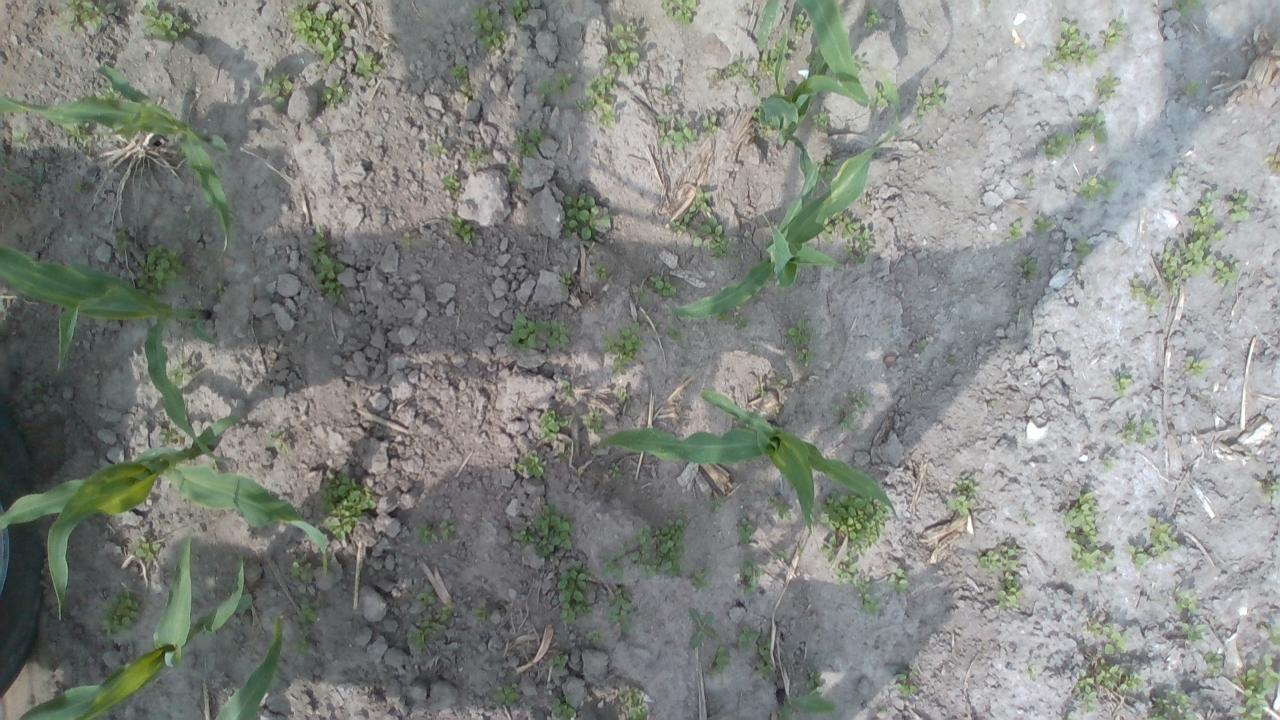Maize: (0, 412, 333, 619), (664, 76, 900, 324), (0, 241, 230, 465), (0, 62, 235, 250), (20, 530, 252, 720), (603, 387, 898, 532), (758, 44, 868, 194), (753, 0, 872, 108), (198, 615, 284, 720), (772, 686, 834, 720)
Weeds: (818, 487, 892, 564), (1064, 491, 1118, 574), (318, 469, 380, 537), (626, 512, 688, 580), (286, 3, 352, 62), (1231, 654, 1280, 720), (820, 211, 875, 264), (1160, 239, 1214, 292), (136, 244, 186, 300), (1045, 20, 1098, 72), (306, 230, 344, 302), (508, 312, 572, 352), (562, 191, 612, 241), (832, 564, 882, 614), (532, 505, 576, 560), (557, 560, 594, 624), (138, 0, 192, 43), (54, 0, 117, 35), (576, 74, 616, 128), (606, 322, 644, 374), (1187, 188, 1224, 241), (467, 5, 509, 50), (98, 594, 140, 637), (606, 22, 640, 75), (831, 390, 871, 434), (656, 112, 698, 151), (1144, 513, 1178, 560), (692, 216, 729, 258), (1148, 690, 1196, 720), (1095, 663, 1143, 693), (1088, 621, 1128, 655), (408, 618, 448, 652), (607, 585, 634, 635), (688, 604, 718, 648), (6, 163, 48, 194), (979, 546, 1024, 574), (946, 476, 976, 516), (871, 72, 901, 112), (260, 72, 293, 108), (1074, 110, 1110, 143), (618, 686, 652, 720), (509, 450, 546, 480), (915, 82, 947, 116), (683, 184, 712, 221), (1122, 419, 1158, 448), (660, 0, 700, 26), (601, 542, 627, 582), (995, 574, 1022, 612), (1131, 279, 1164, 310), (738, 558, 768, 592), (513, 127, 544, 159), (536, 410, 567, 442), (446, 212, 476, 244), (1079, 176, 1119, 200), (536, 72, 574, 97), (318, 80, 351, 108), (417, 520, 455, 544), (706, 642, 731, 678), (754, 640, 776, 680), (1224, 191, 1252, 222), (1214, 257, 1242, 288), (649, 272, 681, 299), (787, 318, 817, 346), (1100, 18, 1126, 50), (353, 51, 382, 79), (62, 121, 94, 146), (1076, 672, 1096, 712), (1044, 132, 1072, 160), (134, 534, 162, 560), (766, 494, 792, 522), (892, 670, 918, 698), (1173, 590, 1201, 616), (298, 596, 324, 624), (754, 48, 779, 76), (1126, 541, 1151, 569), (713, 60, 744, 82), (1182, 355, 1210, 379), (812, 158, 840, 182), (546, 696, 574, 720), (290, 553, 312, 583), (495, 682, 521, 707), (736, 624, 760, 651), (718, 310, 752, 329), (1096, 72, 1120, 98), (204, 280, 227, 306), (1182, 620, 1208, 642), (582, 408, 604, 434), (1021, 253, 1040, 282), (806, 669, 826, 696), (1259, 477, 1280, 502), (737, 518, 756, 545), (887, 569, 911, 590), (1174, 0, 1202, 16), (810, 110, 830, 131), (1111, 374, 1133, 393), (1204, 652, 1224, 672), (690, 570, 710, 590), (511, 528, 533, 546), (788, 13, 808, 32), (668, 322, 688, 341), (440, 173, 460, 192), (291, 637, 312, 655), (168, 365, 186, 386), (415, 588, 436, 606), (271, 432, 288, 454), (430, 142, 450, 160), (797, 348, 817, 366), (1006, 220, 1024, 240), (508, 0, 528, 18), (110, 229, 127, 250), (864, 4, 880, 26), (559, 378, 575, 400), (466, 142, 485, 160), (593, 262, 610, 282), (702, 113, 719, 133), (546, 654, 568, 669), (1033, 216, 1053, 232), (1166, 168, 1180, 190), (774, 38, 792, 55), (669, 219, 689, 234), (744, 75, 758, 96), (10, 128, 28, 144), (100, 85, 120, 99), (558, 270, 572, 290), (912, 336, 928, 353), (1263, 626, 1280, 642), (1186, 79, 1202, 96), (804, 48, 821, 64), (450, 63, 468, 78), (505, 164, 520, 180), (436, 604, 448, 624), (608, 462, 621, 480), (71, 180, 86, 195), (458, 83, 474, 97), (1076, 240, 1090, 256), (1102, 455, 1114, 472), (854, 50, 864, 70), (639, 286, 650, 304), (661, 82, 674, 96), (585, 631, 604, 640), (710, 496, 720, 513), (402, 230, 412, 247), (472, 606, 484, 620), (1022, 172, 1034, 185), (0, 295, 8, 313), (754, 388, 770, 397), (158, 430, 171, 441), (209, 458, 219, 470), (864, 195, 872, 210), (775, 550, 785, 562), (616, 391, 627, 400), (0, 153, 8, 165), (1064, 711, 1074, 720), (752, 110, 761, 117)
